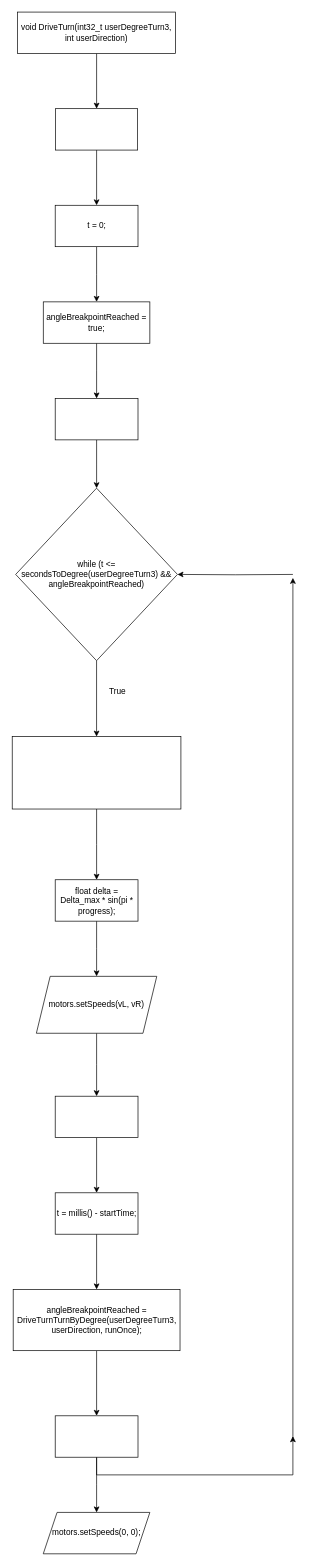
Some shapes in this 311 by 1566 pixel diagram are drawn without their labels. The centre of each missing label's shape, as x and y in pixels:
"delay(50);" goes at (x=96, y=1117).
"float progress = (float)t / (float)secondsToDegree(userDegreeTurn3);" goes at (x=96, y=772).
"runOnce = false;" goes at (x=96, y=1436).
"runOnce = true;" goes at (x=96, y=419).
"startTime = millis()" goes at (x=96, y=129).
